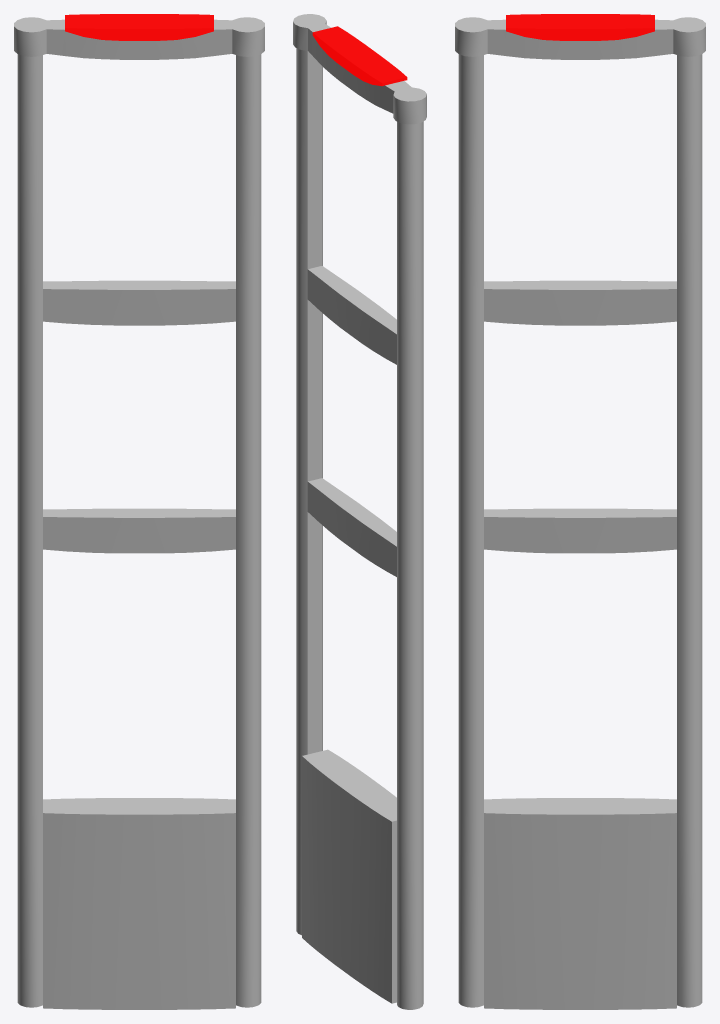
Rendered from Detector.fbx.
The picture shows the model from 3 angles, left to right: view 1: azimuth 90°, elevation 25°; view 2: azimuth 210°, elevation 25°; view 3: azimuth 270°, elevation 25°; orthographic projection. The views are drawn at different scales.
Parts seen in each view (by area): view 1: Zylinder; view 2: Zylinder; view 3: Zylinder.
Boxes of the visible parts, left/top/right/bottom form: Zylinder: left=14, top=14, right=264, bottom=1009; Zylinder: left=293, top=14, right=426, bottom=1009; Zylinder: left=455, top=14, right=705, bottom=1009.
Bounding box in the file's own units: 5.5 × 150 × 34.9.
